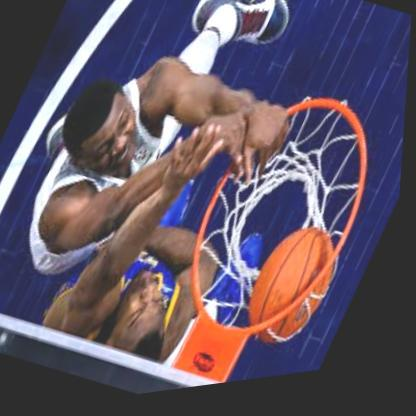basketball: (237, 222, 356, 367)
rim: (140, 71, 408, 399)
